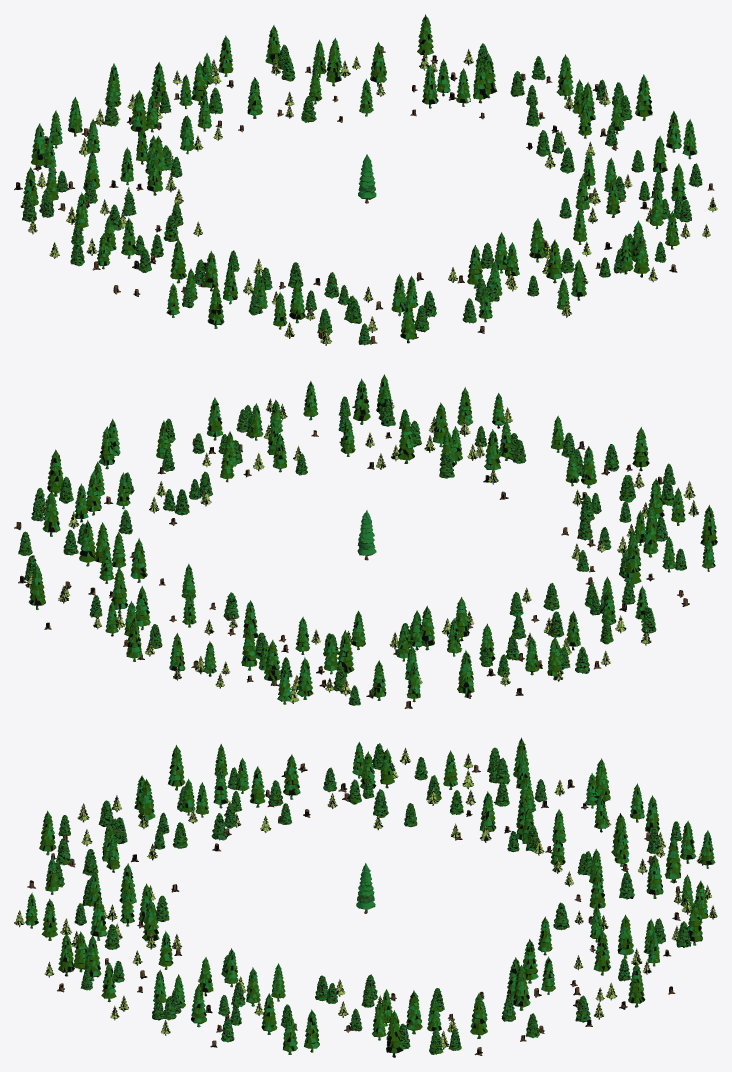
File: forest.glb
3 views of the same model, one above another, from view 1: azimuth 30°, elevation 25°; view 2: azimuth 150°, elevation 25°; view 3: azimuth 270°, elevation 25° (orthographic). The views are drawn at different scales.
Parts seen in each view (by area): view 1: Plane, _2_tree; view 2: Plane, _2_tree; view 3: Plane.
Part boxes in pixels (<box>): Plane: <box>14,14,717,345</box>; _2_tree: <box>358,154,376,203</box>; Plane: <box>14,374,717,708</box>; _2_tree: <box>357,510,376,560</box>; Plane: <box>14,737,717,1057</box>.
Size of the model in its own units: 515731 by 40763 by 514346.
Materials: 4 (4 with a texture image).
